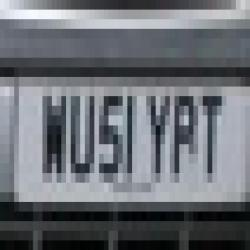LicensePlate: (13, 44, 250, 222)
